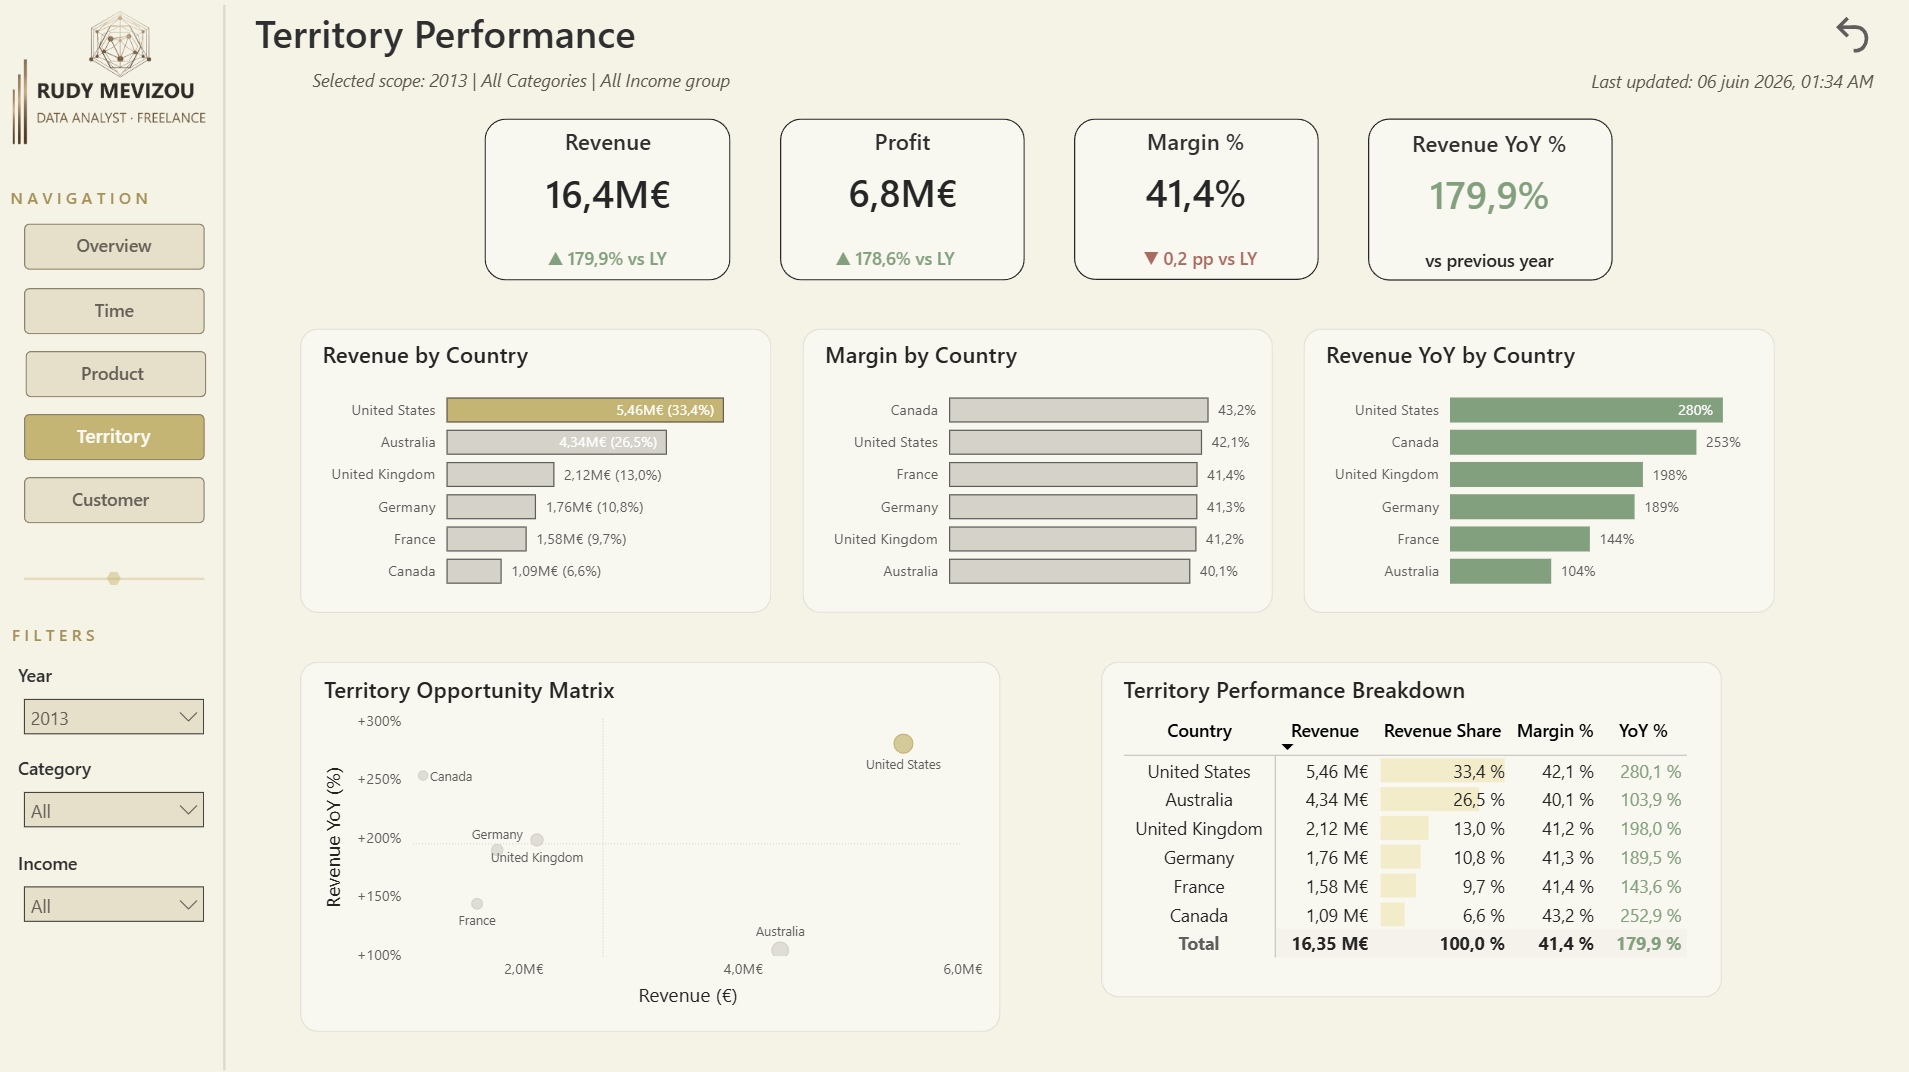

The page's visual inventory and layout, read from the dashboard file:
{"tool":"powerbi","page":{"name":"Territory Performance","canvas":[1600,900],"ordinal":3},"visuals":[{"type":"textbox","box":[213.3,0,501.2,56.2],"z":0,"group":"g17"},{"type":"shape","box":[654.6,98.3,204,135],"z":0,"group":"g22"},{"type":"shape","box":[408.7,98.5,205,135],"z":0,"group":"g23"},{"type":"shape","box":[899.5,98.5,204,134.5],"z":0,"group":"g21"},{"type":"shape","box":[1144.5,98.9,203.9,135.1],"z":0,"group":"g20"},{"type":"card","title":"Margin %","fields":{"Values":["Mesures.Margin %"]},"box":[931.3,104.7,140.4,86.4],"z":0,"group":"g3"},{"type":"card","title":"Profit","fields":{"Values":["Mesures.Profit"]},"box":[675.8,104.8,161.7,86.4],"z":0,"group":"g4"},{"type":"card","title":"Revenue","fields":{"Values":["Mesures.Revenue"]},"box":[419.6,105,183.2,88.1],"z":0,"group":"g5"},{"type":"card","title":"Revenue YoY %","fields":{"Values":["Mesures.Revenue YoY Display"]},"box":[1172.7,105.9,145,86.4],"z":0,"group":"g6"},{"type":"shape","box":[25,186.4,150.6,38.6],"z":0,"group":"g18"},{"type":"shape","box":[25.5,239.3,150.6,38.6],"z":0,"group":"g13"},{"type":"shape","box":[254.9,273.8,392.9,237.1],"z":0,"group":"g26"},{"type":"shape","box":[673.8,273.8,392,237],"z":0,"group":"g25"},{"type":"shape","box":[1091.8,273.8,392.9,237.1],"z":0,"group":"g24"},{"type":"shape","box":[26.8,292,150.6,38.6],"z":0,"group":"g11"},{"type":"shape","box":[25.5,344.7,150.6,38.6],"z":0,"group":"g8"},{"type":"group","id":"g1","title":"Customer button","box":[25.4,397.5,150.6,38.6],"z":0,"group":"g16"},{"type":"shape","box":[25.4,397.5,150.6,38.6],"z":0,"group":"g1"},{"type":"shape","box":[25,476.5,150.5,12.2],"z":0,"group":"g9"},{"type":"group","id":"g2","title":"05 - Scatter & Table","box":[255,551.2,1185.5,308.8],"z":0},{"type":"shape","box":[255,551.2,583.8,308.8],"z":0,"group":"g19"},{"type":"shape","box":[923,551.2,517.5,280],"z":0,"group":"g14"},{"type":"card","fields":{"Values":["Mesures.Last Updated"]},"box":[1321.2,56.2,253.8,27],"z":1000,"group":"g17"},{"type":"group","id":"g3","title":"Groupe 2","box":[929.5,104.7,150,127.6],"z":1000,"group":"g21"},{"type":"group","id":"g4","title":"Groupe 9","box":[675.8,104.8,161.7,127.6],"z":1000,"group":"g22"},{"type":"group","id":"g5","title":"Groupe 5","box":[419.6,105,183.2,127.4],"z":1000,"group":"g23"},{"type":"group","id":"g6","title":"Groupe 6","box":[1172.7,105.9,145,127.5],"z":1000,"group":"g20"},{"type":"textbox","box":[63.8,188.9,73,33],"z":1000,"group":"g18"},{"type":"card","fields":{"Values":["Mesures.Margin YoY Label"]},"box":[929.5,202.3,150,30],"z":1000,"group":"g3"},{"type":"card","fields":{"Values":["Mesures.Revenue YoY Label"]},"box":[441.3,202.4,138.9,30],"z":1000,"group":"g5"},{"type":"card","fields":{"Values":["Mesures.Profit YoY Label"]},"box":[678.8,202.4,143.5,30],"z":1000,"group":"g4"},{"type":"card","fields":{"Values":["Mesures.Revenue YoY Status"]},"box":[1173.2,203.3,144,30.1],"z":1000,"group":"g6"},{"type":"textbox","box":[79.1,242.3,43.5,32.6],"z":1000,"group":"g13"},{"type":"group","id":"g7","title":"04 - Charts territory","box":[254.9,273.8,1229.7,237.1],"z":1000},{"type":"clusteredBarChart","title":"Revenue by Country","fields":{"Y":["Mesures.Revenue"],"Category":["Territory.Country"]},"box":[269,283,375,220],"z":1000,"group":"g26"},{"type":"clusteredBarChart","title":"Margin by Country","fields":{"Y":["Mesures.Margin %"],"Category":["Territory.Country"]},"box":[688.1,283,375,220],"z":1000,"group":"g25"},{"type":"textbox","box":[67.5,295,69.1,32.2],"z":1000,"group":"g11"},{"type":"group","id":"g8","title":"Territory button","box":[25.5,344.7,150.6,38.6],"z":1000,"group":"g16"},{"type":"textbox","box":[63.7,346.3,72.5,35],"z":1000,"group":"g8"},{"type":"textbox","box":[60,399.5,80,32.4],"z":1000,"group":"g1"},{"type":"group","id":"g9","title":"Separator Line","box":[25,476.5,150.5,12.2],"z":1000,"group":"g12"},{"type":"shape","box":[94.1,476.5,12.2,11.3],"z":1000,"group":"g9"},{"type":"pivotTable","title":"Territory Performance Breakdown","fields":{"Values":["Mesures.Revenue Display Product","Mesures.Revenue Share Country","Mesures.Margin %","Mesures.Revenue YoY % Clean"],"Rows":["Territory.Country"]},"box":[937,561,484.3,262.9],"z":1000,"group":"g14"},{"type":"card","fields":{"Values":["Mesures.Territory Scatter Message"]},"box":[333.1,603.5,490,198.2],"z":1000,"group":"g19"},{"type":"slicer","title":"Income","fields":{"Values":["Customer.IncomeGroup"]},"box":[16,708.3,170,62.5],"z":1000,"group":"g15"},{"type":"card","fields":{"Values":["Mesures.Revenue YoY Chart Message"]},"box":[1100.8,285,375.6,220],"z":1500,"group":"g24"},{"type":"shape","box":[181.4,4.3,21.4,888.6],"z":2000,"group":"g12"},{"type":"group","id":"g10","title":"03 - KPI","box":[408.7,98.3,939.8,135.6],"z":2000},{"type":"clusteredBarChart","title":"Revenue YoY by Country","fields":{"Category":["Territory.Country"],"Y":["Mesures.Revenue YoY Chart"]},"box":[1106.1,283,375,220],"z":2000,"group":"g24"},{"type":"group","id":"g11","title":"Product button","box":[26.8,292,150.6,38.6],"z":2000,"group":"g16"},{"type":"scatterChart","title":"Territory Opportunity Matrix","fields":{"X":["Mesures.Revenue"],"Y":["Mesures.Revenue YoY Chart"],"Category":["Territory.Country"],"Size":["Mesures.Profit"]},"box":[270,561,558.8,282.5],"z":2000,"group":"g19"},{"type":"slicer","title":"Category","fields":{"Values":["Product.ProductCategory"]},"box":[16,630.4,170,62],"z":2000,"group":"g15"},{"type":"group","id":"g12","title":"02 - Sidebar","box":[0,0,202.9,892.9],"z":3000},{"type":"actionButton","box":[1528.7,8.8,50,40],"z":3000,"group":"g17"},{"type":"group","id":"g13","title":"Time button","box":[25.5,239.3,150.6,38.6],"z":3000,"group":"g16"},{"type":"group","id":"g14","title":"Territory table","box":[923,551.2,517.5,280],"z":3000,"group":"g2"},{"type":"slicer","title":"Year","fields":{"Values":["Date.CalendarYear Hiérarchie.CalendarYear"]},"box":[16,551.8,170,62.8],"z":3000,"group":"g15"},{"type":"group","id":"g15","title":"Filters label","box":[10.5,513.7,175.5,257.1],"z":3250,"group":"g12"},{"type":"group","id":"g16","title":"Navigation label","box":[8.9,149.8,168.5,286.2],"z":3500,"group":"g12"},{"type":"image","title":"Logo","box":[0,0,201.7,136.7],"z":4000,"group":"g12"},{"type":"group","id":"g17","title":"01 - Header","box":[212.9,0,1365.8,83.2],"z":4000},{"type":"card","fields":{"Values":["Mesures.Selection Summary Territory"]},"box":[212.9,55,453,28.2],"z":4000,"group":"g17"},{"type":"group","id":"g18","title":"Overview button","box":[25,186.4,150.6,38.6],"z":4000,"group":"g16"},{"type":"textbox","title":"Filters text","box":[10.5,513.7,136.4,36.4],"z":4000,"group":"g15"},{"type":"group","id":"g19","title":"Scatter","box":[255,551.2,583.8,308.8],"z":4500,"group":"g2"},{"type":"textbox","title":"Navigation text","box":[8.9,149.8,145.6,36],"z":5000,"group":"g16"},{"type":"group","id":"g20","title":"KPI Revenue YoY","box":[1144.5,98.9,204,135],"z":6500,"group":"g10"},{"type":"group","id":"g21","title":"KPI Margin %","box":[899.5,98.5,204,134.5],"z":7000,"group":"g10"},{"type":"group","id":"g22","title":"KPI Profit","box":[654.6,98.3,204,135],"z":7500,"group":"g10"},{"type":"group","id":"g23","title":"KPI Revenue","box":[408.7,98.5,205,135],"z":8500,"group":"g10"},{"type":"group","id":"g24","title":"Revenue YoY by country","box":[1091.8,273.8,392.9,237.1],"z":9000,"group":"g7"},{"type":"group","id":"g25","title":"Margin % by country","box":[673.8,273.8,392,237],"z":9500,"group":"g7"},{"type":"group","id":"g26","title":"Revenue by category","box":[254.9,273.8,392.9,237.1],"z":10000,"group":"g7"}]}

Visuals, with their boxes in screenshot pixels (x1, y1, x2, y2), scaled from the page's 1600x900 canvas onto the 1909x1072 screenshot:
textbox: region(254, 0, 852, 67)
shape: region(781, 117, 1024, 278)
shape: region(488, 117, 732, 278)
shape: region(1073, 117, 1317, 278)
shape: region(1366, 118, 1609, 279)
"Margin %" card: region(1111, 125, 1279, 228)
"Profit" card: region(806, 125, 999, 228)
"Revenue" card: region(501, 125, 719, 230)
"Revenue YoY %" card: region(1399, 126, 1572, 229)
shape: region(30, 222, 210, 268)
shape: region(30, 285, 210, 331)
shape: region(304, 326, 773, 609)
shape: region(804, 326, 1272, 608)
shape: region(1303, 326, 1771, 609)
shape: region(32, 348, 212, 394)
shape: region(30, 411, 210, 457)
"Customer button" group: region(30, 473, 210, 519)
shape: region(30, 473, 210, 519)
shape: region(30, 568, 209, 582)
"05 - Scatter & Table" group: region(304, 657, 1719, 1024)
shape: region(304, 657, 1001, 1024)
shape: region(1101, 657, 1719, 990)
card - Mesures.Last Updated: region(1576, 67, 1879, 99)
"Groupe 2" group: region(1109, 125, 1288, 277)
"Groupe 9" group: region(806, 125, 999, 277)
"Groupe 5" group: region(501, 125, 719, 277)
"Groupe 6" group: region(1399, 126, 1572, 278)
textbox: region(76, 225, 163, 264)
card - Mesures.Margin YoY Label: region(1109, 241, 1288, 277)
card - Mesures.Revenue YoY Label: region(527, 241, 692, 277)
card - Mesures.Profit YoY Label: region(810, 241, 981, 277)
card - Mesures.Revenue YoY Status: region(1400, 242, 1572, 278)
textbox: region(94, 289, 146, 327)
"04 - Charts territory" group: region(304, 326, 1771, 609)
"Revenue by Country" clusteredBarChart: region(321, 337, 768, 599)
"Margin by Country" clusteredBarChart: region(821, 337, 1268, 599)
textbox: region(81, 351, 163, 390)
"Territory button" group: region(30, 411, 210, 457)
textbox: region(76, 412, 163, 454)
textbox: region(72, 476, 167, 514)
"Separator Line" group: region(30, 568, 209, 582)
shape: region(112, 568, 127, 581)
"Territory Performance Breakdown" pivotTable: region(1118, 668, 1696, 981)
card - Mesures.Territory Scatter Message: region(397, 719, 982, 955)
"Income" slicer: region(19, 844, 222, 918)
card - Mesures.Revenue YoY Chart Message: region(1313, 339, 1762, 602)
shape: region(216, 5, 242, 1064)
"03 - KPI" group: region(488, 117, 1609, 279)
"Revenue YoY by Country" clusteredBarChart: region(1320, 337, 1767, 599)
"Product button" group: region(32, 348, 212, 394)
"Territory Opportunity Matrix" scatterChart: region(322, 668, 989, 1005)
"Category" slicer: region(19, 751, 222, 825)
"02 - Sidebar" group: region(0, 0, 242, 1064)
actionButton: region(1824, 10, 1884, 58)
"Time button" group: region(30, 285, 210, 331)
"Territory table" group: region(1101, 657, 1719, 990)
"Year" slicer: region(19, 657, 222, 732)
"Filters label" group: region(13, 612, 222, 918)
"Navigation label" group: region(11, 178, 212, 519)
"Logo" image: region(0, 0, 241, 163)
"01 - Header" group: region(254, 0, 1884, 99)
card - Mesures.Selection Summary Territory: region(254, 66, 795, 99)
"Overview button" group: region(30, 222, 210, 268)
"Filters text" textbox: region(13, 612, 175, 655)
"Scatter" group: region(304, 657, 1001, 1024)
"Navigation text" textbox: region(11, 178, 184, 221)
"KPI Revenue YoY" group: region(1366, 118, 1609, 279)
"KPI Margin %" group: region(1073, 117, 1317, 278)
"KPI Profit" group: region(781, 117, 1024, 278)
"KPI Revenue" group: region(488, 117, 732, 278)
"Revenue YoY by country" group: region(1303, 326, 1771, 609)
"Margin % by country" group: region(804, 326, 1272, 608)
"Revenue by category" group: region(304, 326, 773, 609)
